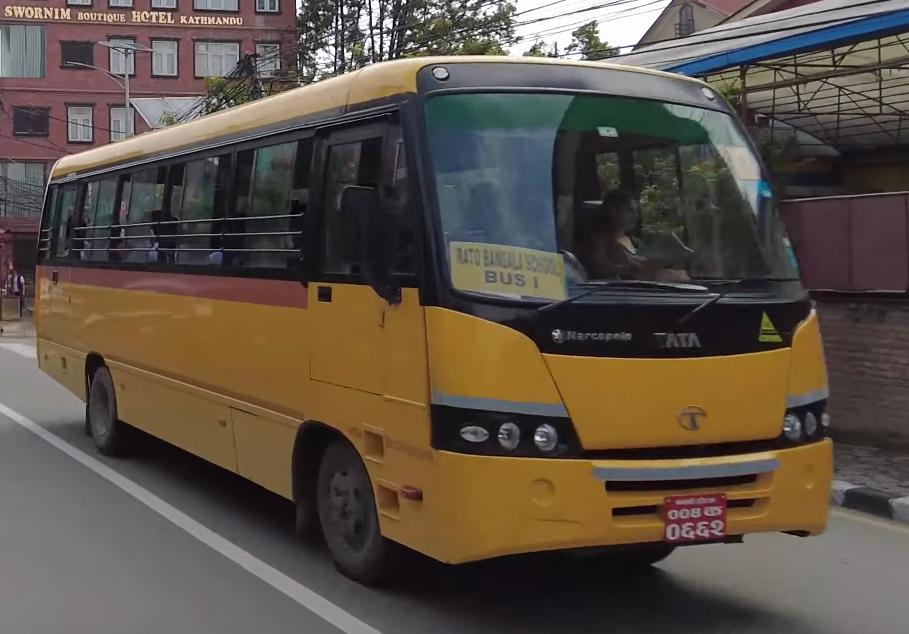school_bus: (25, 43, 849, 615)
